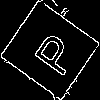P: (25, 25, 80, 79)
